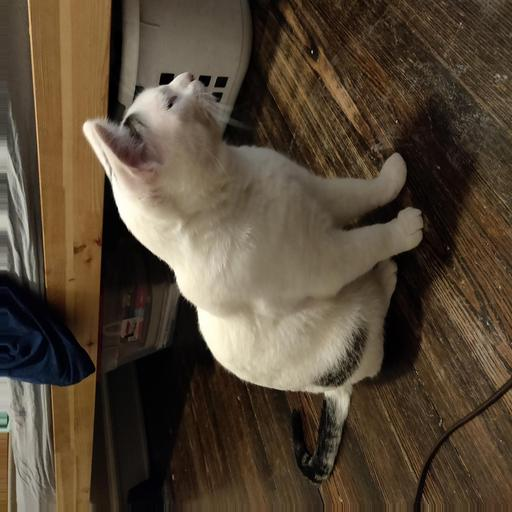cat: (71, 61, 395, 385)
